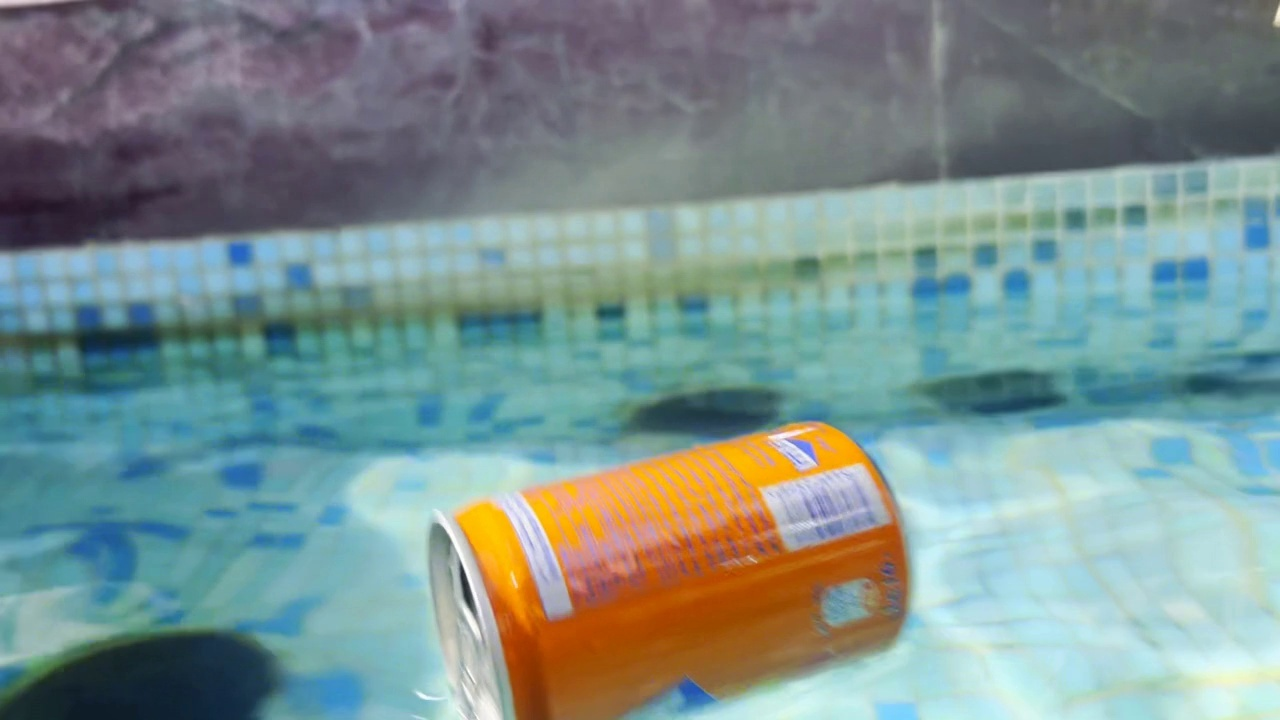debris: (407, 411, 919, 720)
